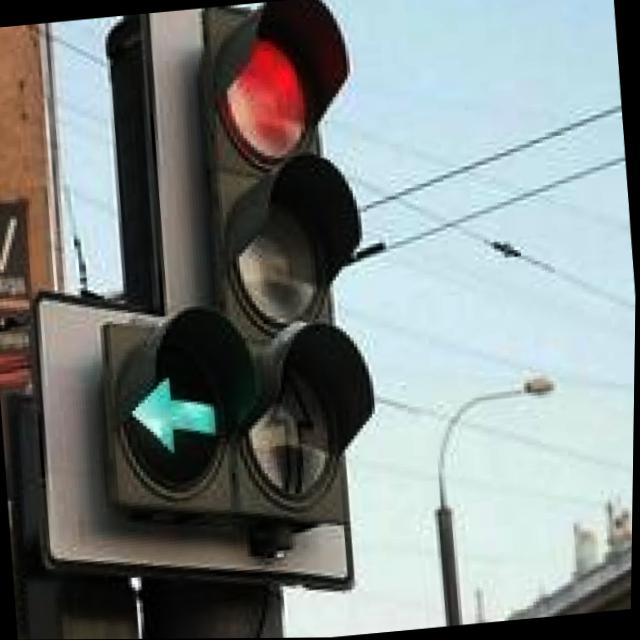red_light: (161, 27, 392, 180)
